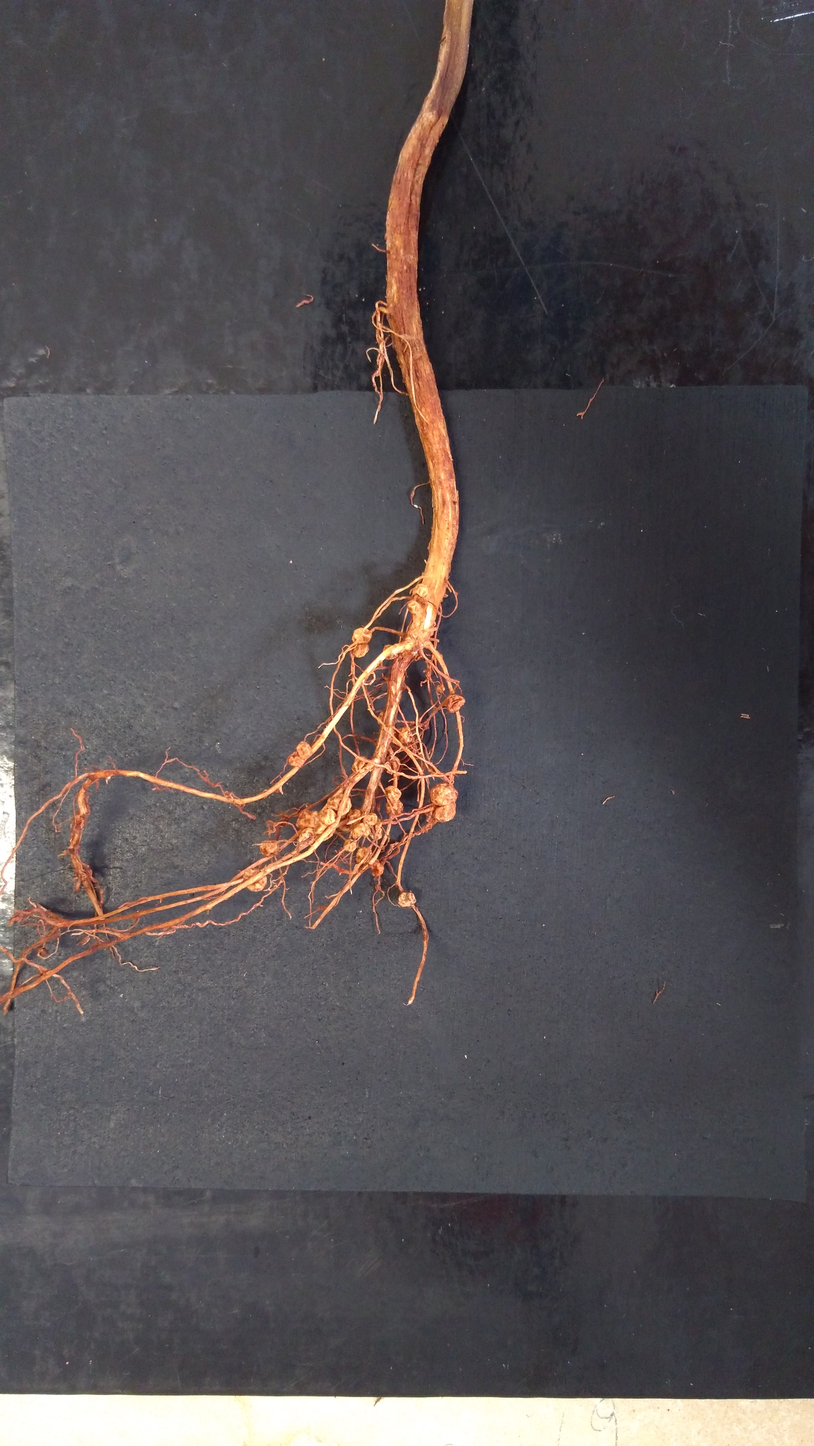nodule: (429, 783, 458, 805), (243, 868, 267, 892), (338, 809, 361, 833), (327, 793, 351, 815), (434, 801, 456, 823), (296, 809, 319, 827), (315, 821, 335, 841), (351, 627, 373, 644), (362, 788, 376, 813), (447, 694, 465, 713), (385, 799, 404, 817), (295, 741, 312, 760), (260, 840, 279, 857), (287, 751, 305, 768), (385, 785, 401, 804), (397, 891, 416, 907), (356, 846, 372, 864), (318, 809, 336, 825), (369, 818, 382, 840), (369, 858, 384, 877), (386, 755, 400, 774), (298, 827, 314, 843), (352, 643, 369, 658), (350, 822, 365, 839), (352, 756, 366, 774), (383, 644, 398, 660), (412, 583, 429, 597), (398, 726, 412, 743), (363, 812, 377, 827), (407, 600, 421, 614), (343, 839, 357, 852), (347, 809, 360, 822), (37, 946, 47, 957), (377, 711, 383, 725), (436, 684, 445, 693)
